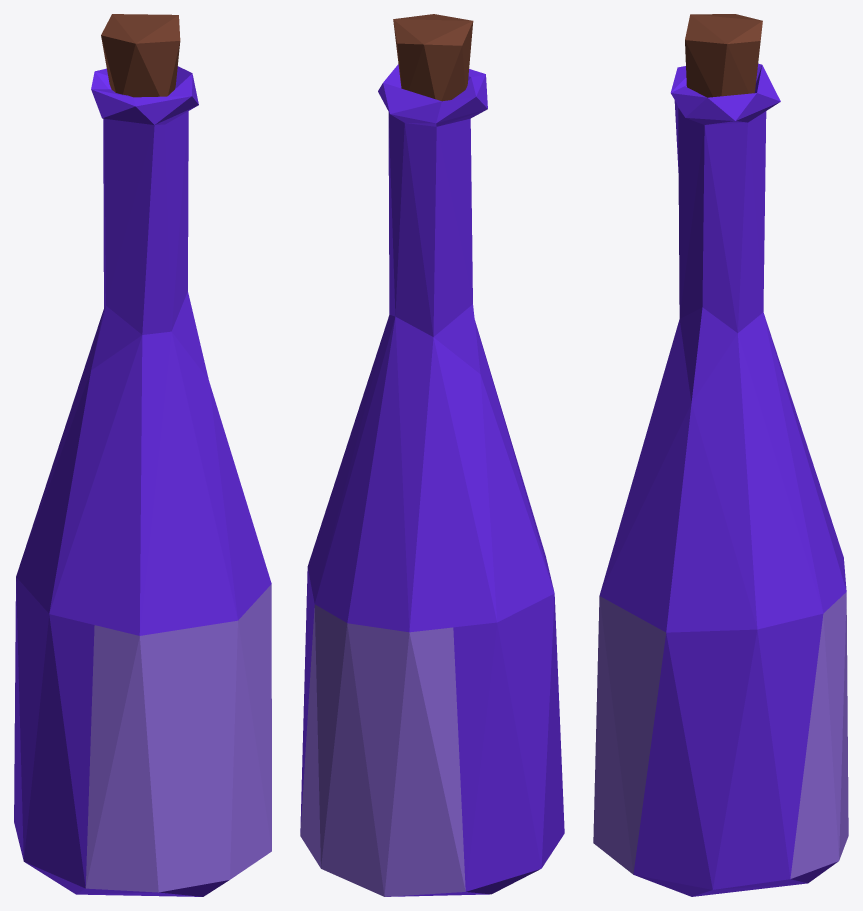
File: Bottle03.fbx
3 views of the same model, side by side, from view 1: azimuth 30°, elevation 25°; view 2: azimuth 150°, elevation 25°; view 3: azimuth 270°, elevation 25° (orthographic).
Visible parts, largest first — view 1: Bottle03LowPoly; view 2: Bottle03LowPoly; view 3: Bottle03LowPoly.
Part boxes in pixels (box(x1,y1,x2,y2)): Bottle03LowPoly: box(14, 14, 271, 896); Bottle03LowPoly: box(300, 14, 564, 896); Bottle03LowPoly: box(593, 14, 848, 896).
Bounding box in the file's own units: 9 × 31.16 × 8.74.
